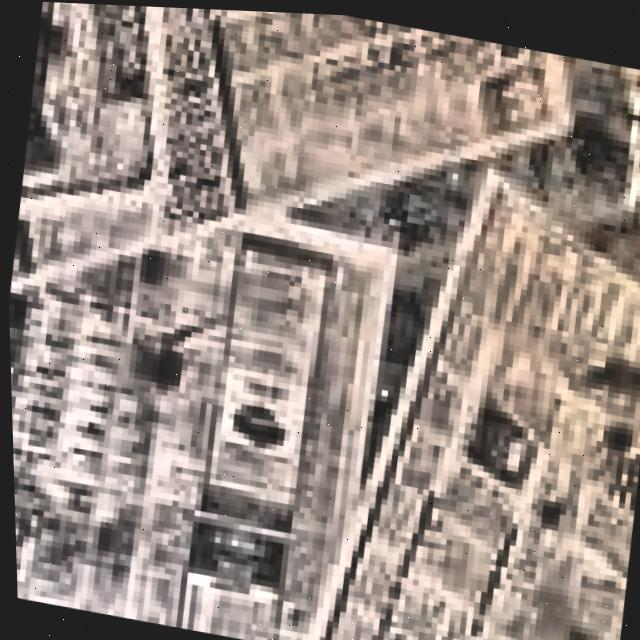paper: (7, 189, 388, 640), (301, 169, 640, 640), (156, 5, 567, 225)
